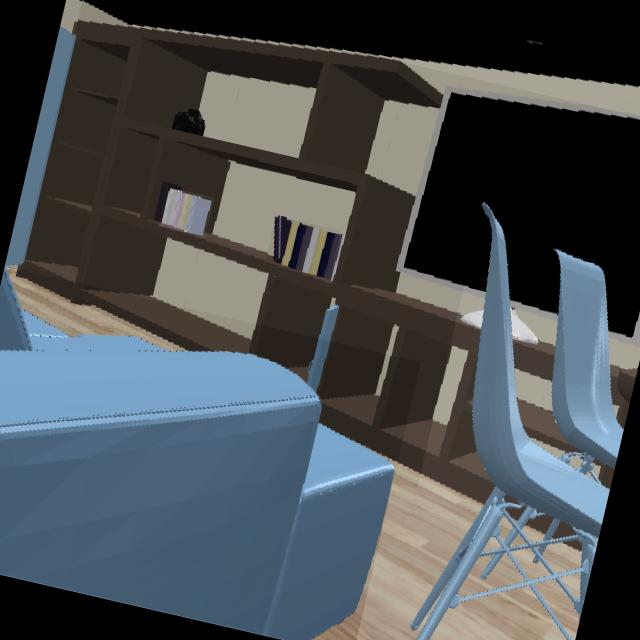book: (273, 217, 339, 278), (160, 186, 211, 234)
bookshelf: (19, 24, 493, 503)
chair: (410, 203, 623, 640)
monitor: (395, 86, 640, 347)
sofa: (0, 266, 395, 640)
